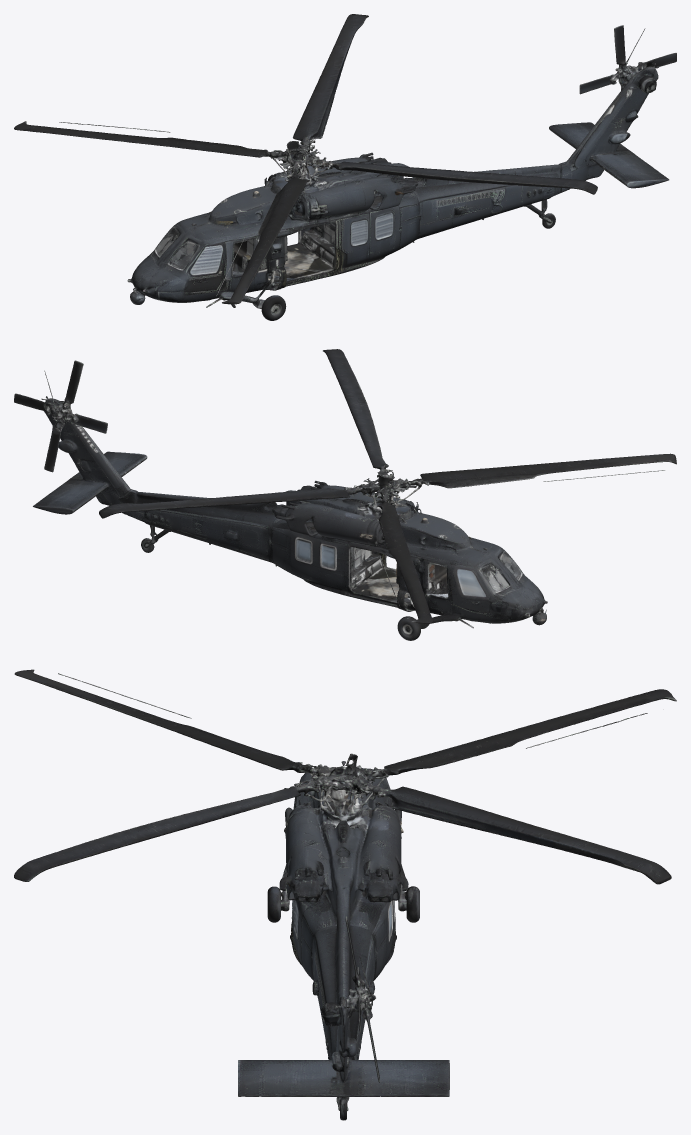
File: Meshy_AI_Black_Hawk_in_Flight_0426234111_texture.glb
The picture shows the model from 3 angles, top to bottom: view 1: azimuth 30°, elevation 25°; view 2: azimuth 150°, elevation 25°; view 3: azimuth 270°, elevation 25°; orthographic projection. The views are drawn at different scales.
Size of the model in its own units: 1.9 by 0.5802 by 1.4.
1 material, 1 textured.
